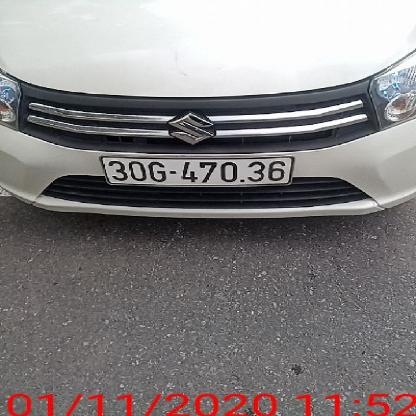biensoxe: (91, 142, 301, 187)
